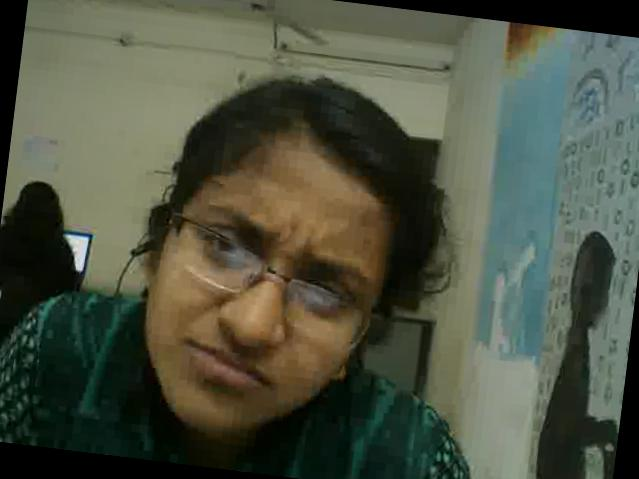bingung: (133, 139, 401, 453)
